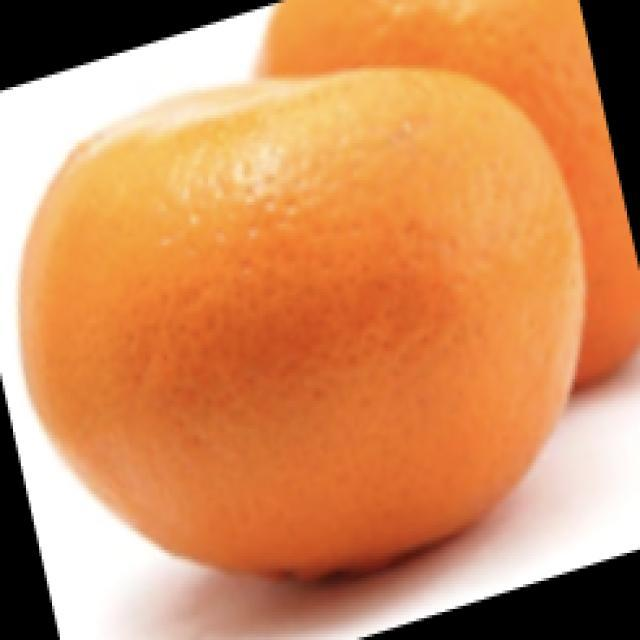matang: (21, 70, 583, 570), (264, 0, 639, 384)
